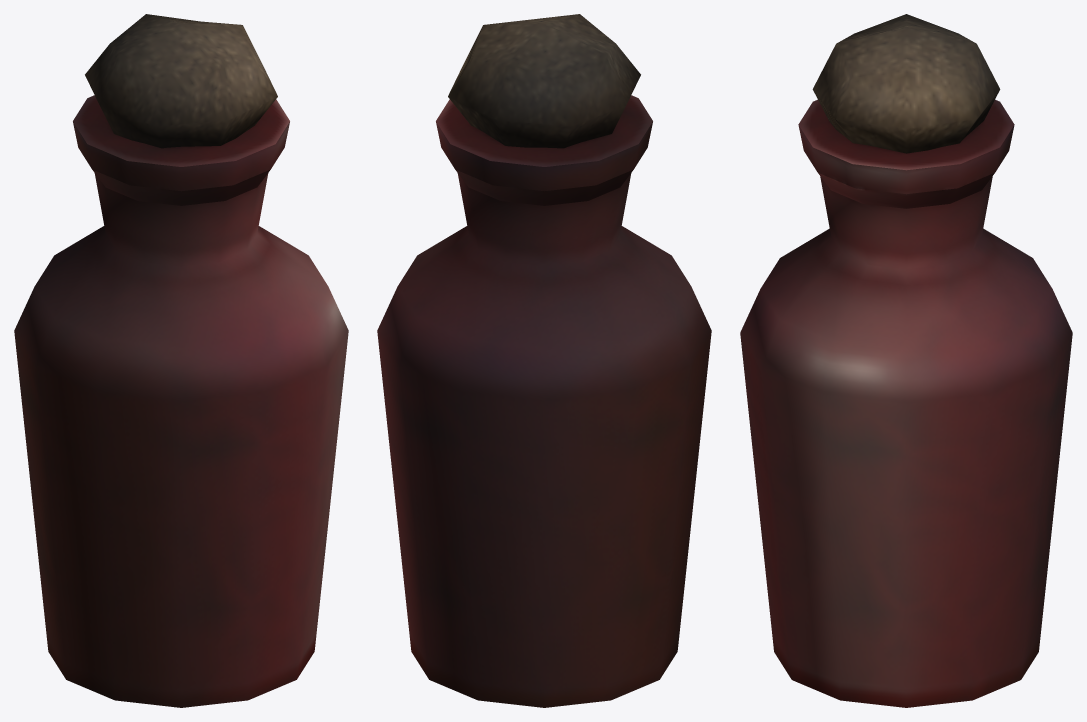
The model's file is Relic_Lust01.obj.
3 renders of one model, left to right at view 1: azimuth 30°, elevation 25°; view 2: azimuth 150°, elevation 25°; view 3: azimuth 270°, elevation 25°, orthographic.
Visible parts, largest first — view 1: Relic_Lust Fix; view 2: Relic_Lust Fix; view 3: Relic_Lust Fix.
Boxes of the visible parts, x1,y1,x2,y2 form: Relic_Lust Fix: (14,14,348,707); Relic_Lust Fix: (377,14,711,707); Relic_Lust Fix: (740,14,1072,707).
Bounding box in the file's own units: 7.54 × 15.59 × 7.54.
1 material, 1 textured.
